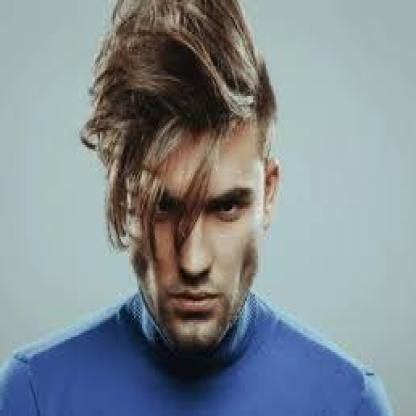without_mask: (144, 169, 261, 354)
